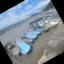fishing boat: (32, 11, 61, 36), (12, 32, 34, 57), (21, 26, 40, 44)
